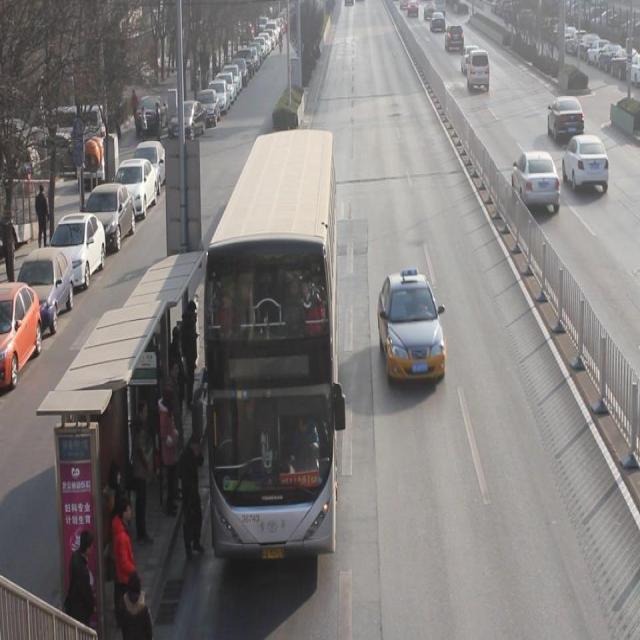car: (376, 268, 446, 384), (511, 150, 561, 214), (561, 134, 610, 198), (546, 96, 585, 143), (444, 23, 465, 54), (461, 45, 480, 77), (430, 12, 446, 32), (406, 1, 420, 19)
truck: (465, 51, 491, 92)
van: (206, 131, 338, 550)
